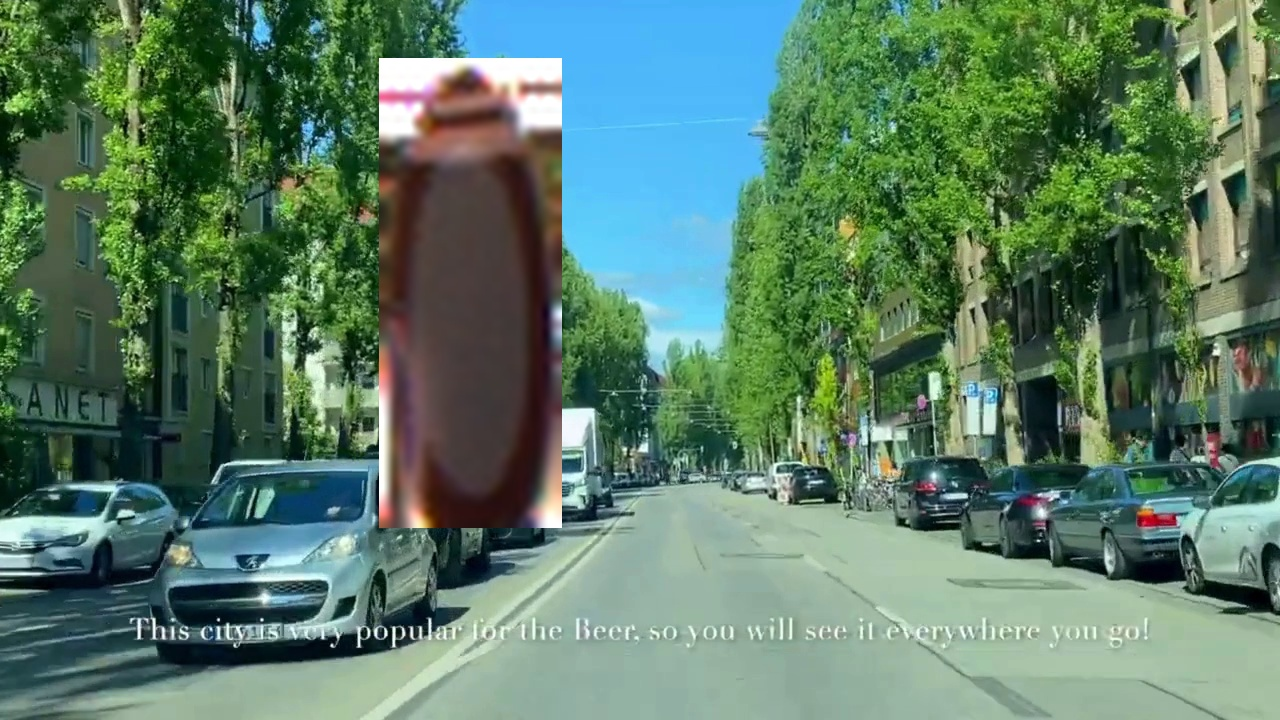No vehicles: (379, 58, 562, 528)
